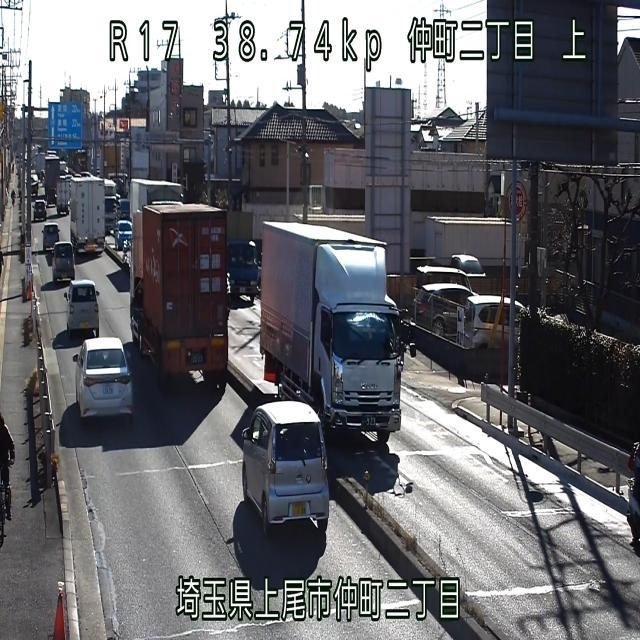16-Wheelers: (258, 220, 404, 443), (129, 201, 228, 387)
Car: (240, 399, 330, 535), (71, 335, 134, 421)
Traffic-sign: (47, 100, 83, 149)
